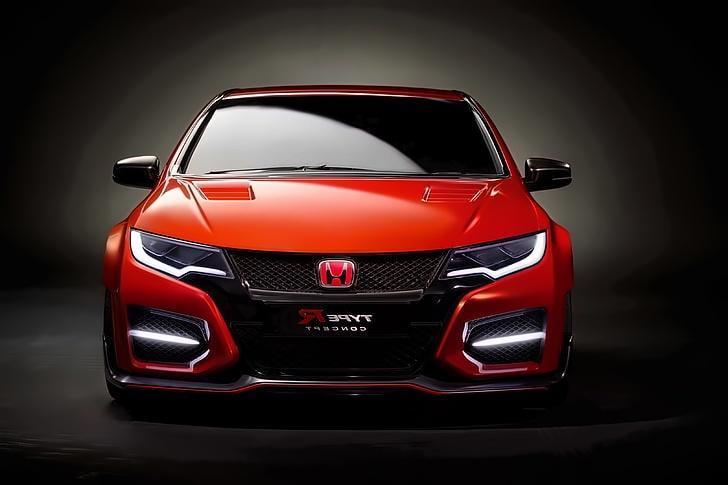Car hood: (132, 170, 547, 256)
Front bumper: (93, 276, 580, 420)
Headlight - -L-: (429, 224, 551, 296)
Headlight - -R-: (120, 219, 240, 286)
Side mirror - -L-: (513, 146, 579, 199)
Side mirror - -R-: (102, 147, 170, 196)
